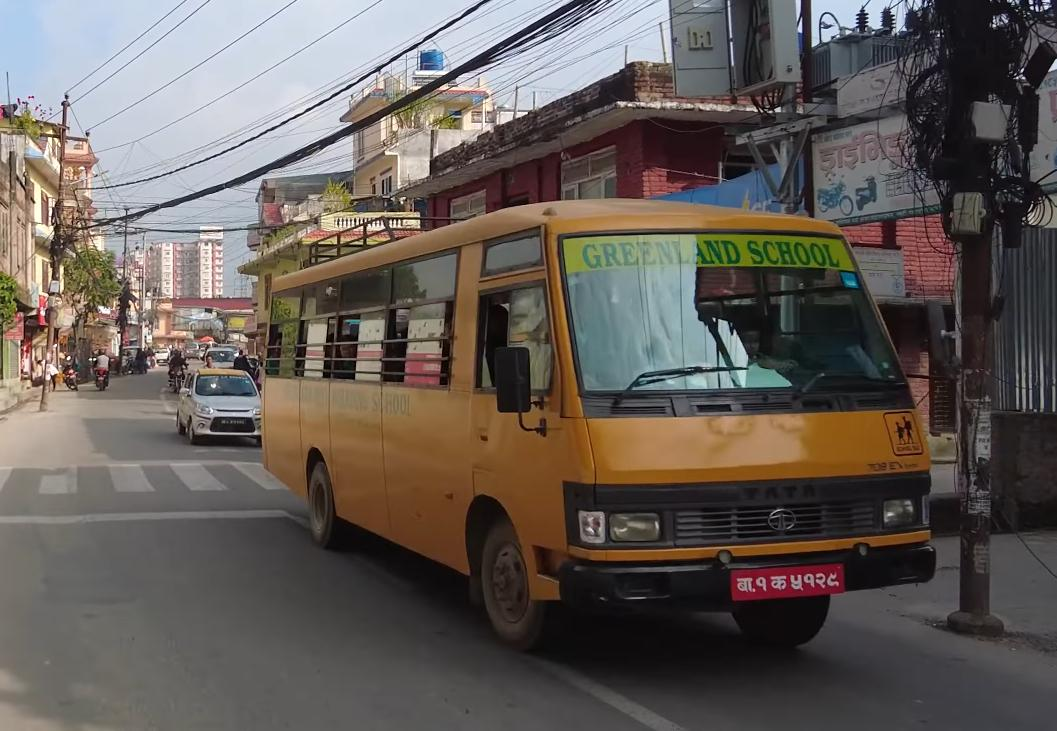school_bus: (256, 194, 939, 669)
taxi: (173, 364, 267, 452)
